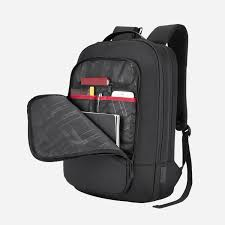backpack: (26, 23, 192, 208)
